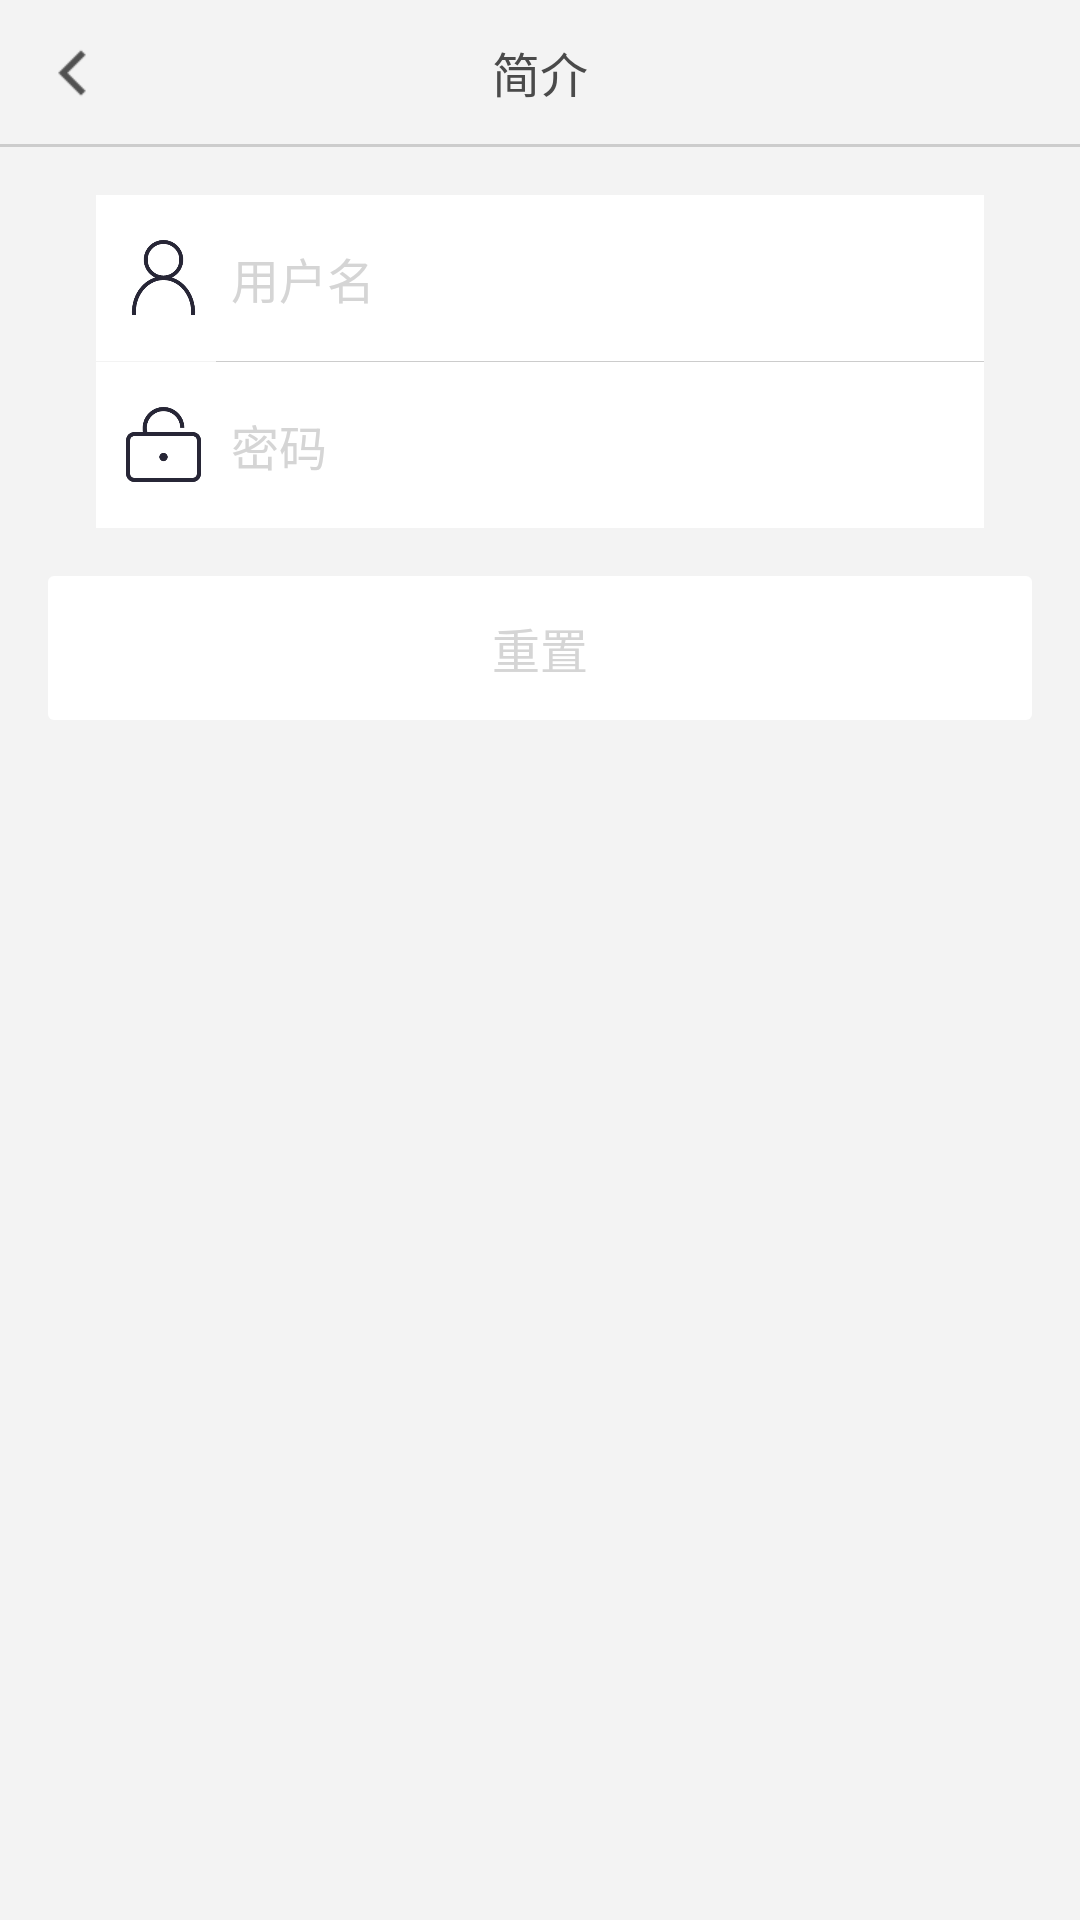

Where to tap for icons on this 1080 × 1920 app screen, as (x=x, y=y):
back: (x=72, y=73)
user name: (x=163, y=277)
